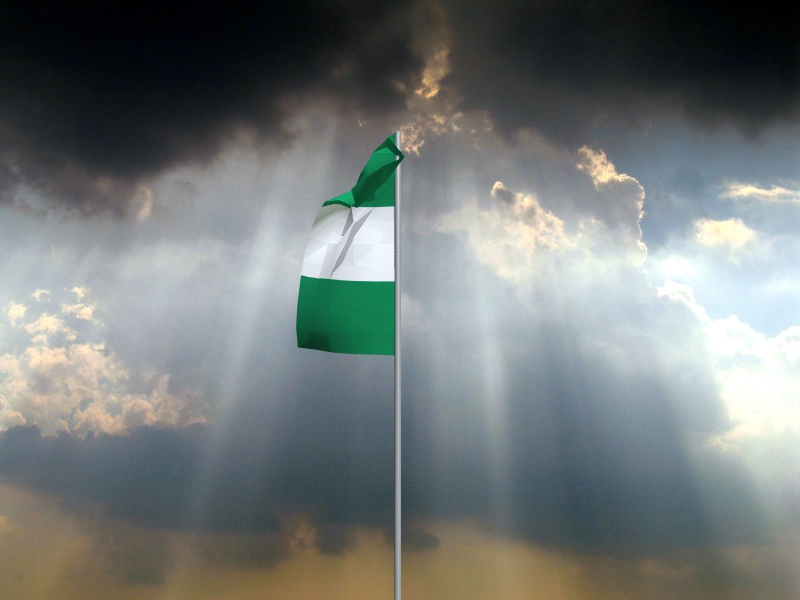ng: (296, 132, 406, 357)
